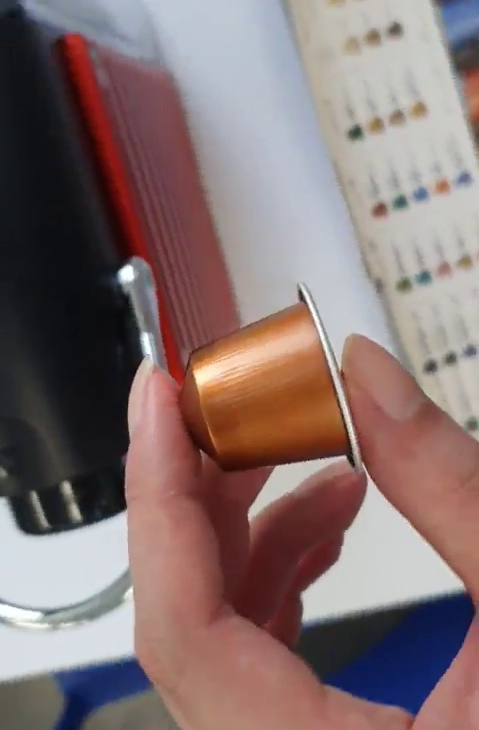capsule_3: (178, 281, 367, 474)
